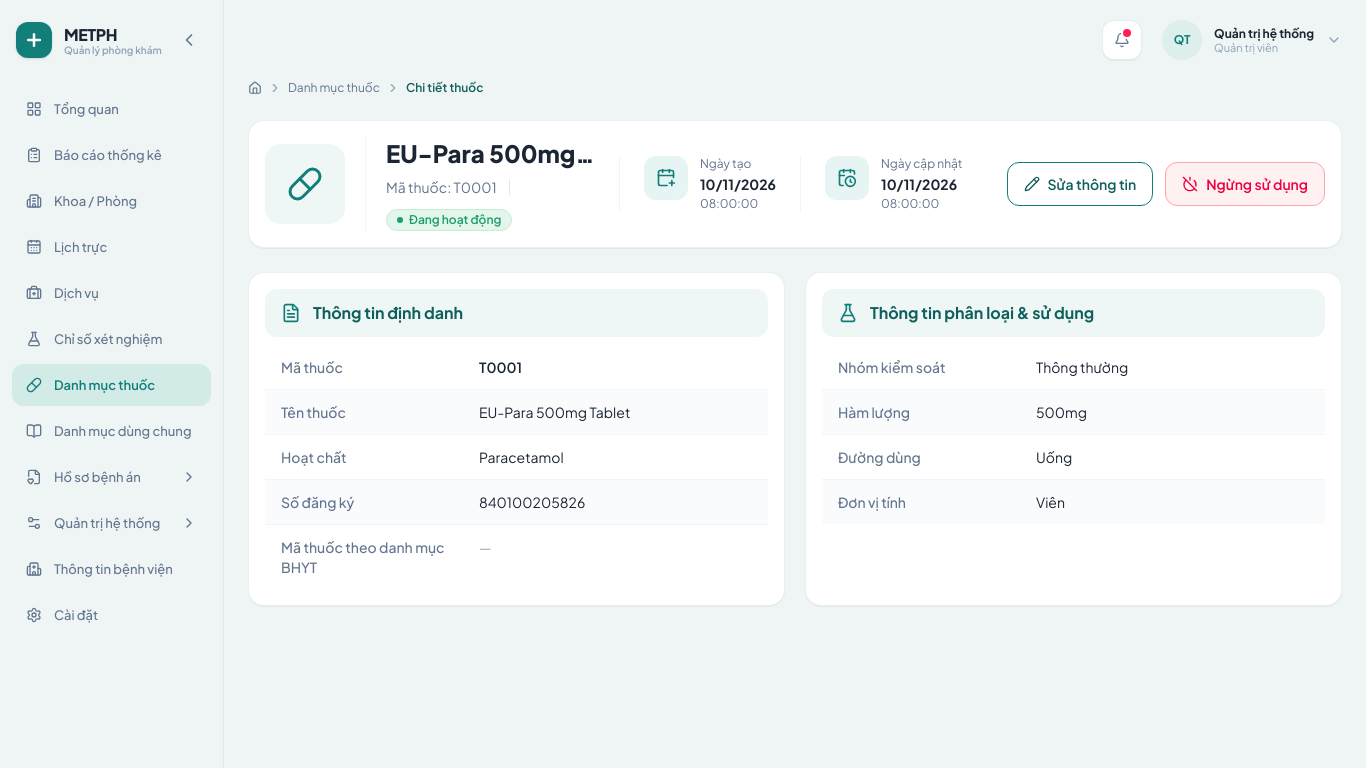
Test: MedicineManagementPage (UC-81 to UC-84) › shows MSG80 and keeps the form when updating a medicine never answers
Click the button "Sửa thông tin" at coordinates (1080, 184), box [1006,162,1153,206]
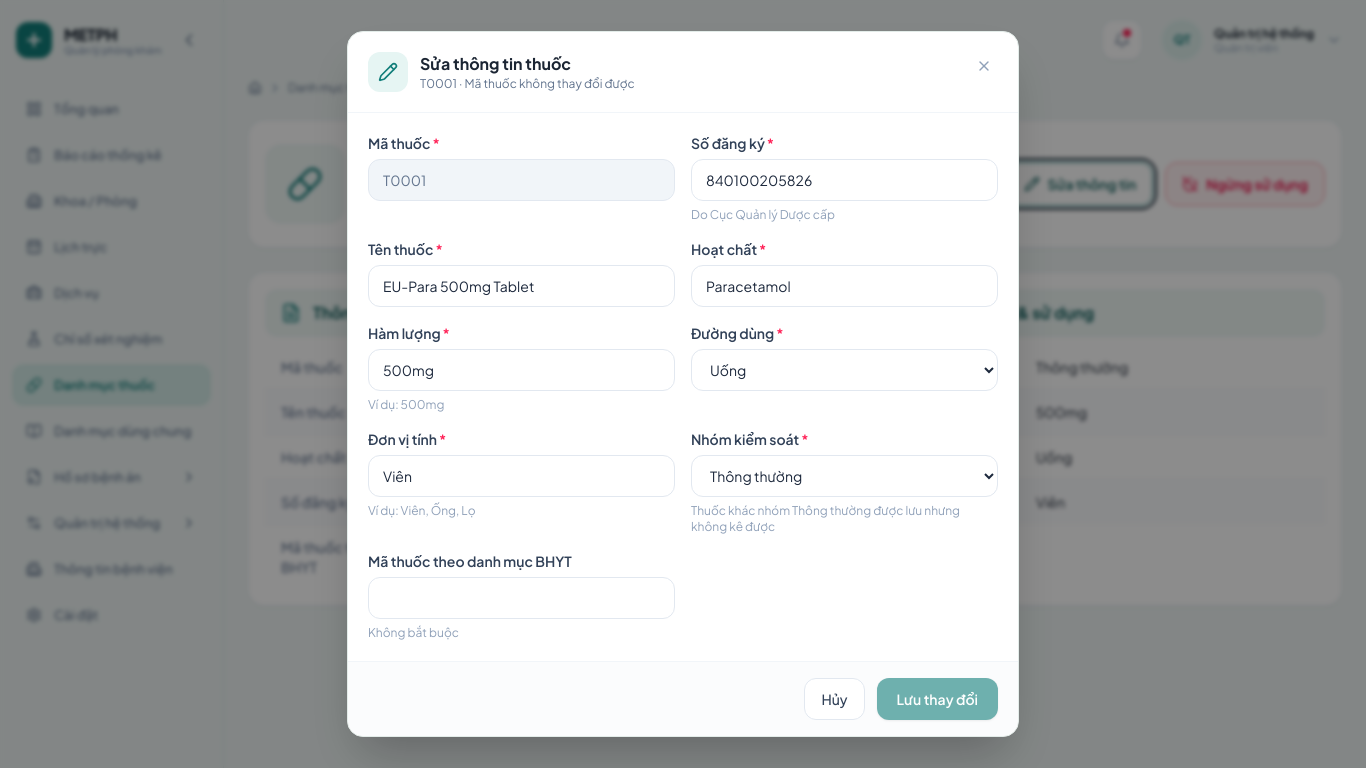
Replace the text in the field labelled "Hàm lượng*" with "650mg" at coordinates (522, 370), box [368,349,675,391]
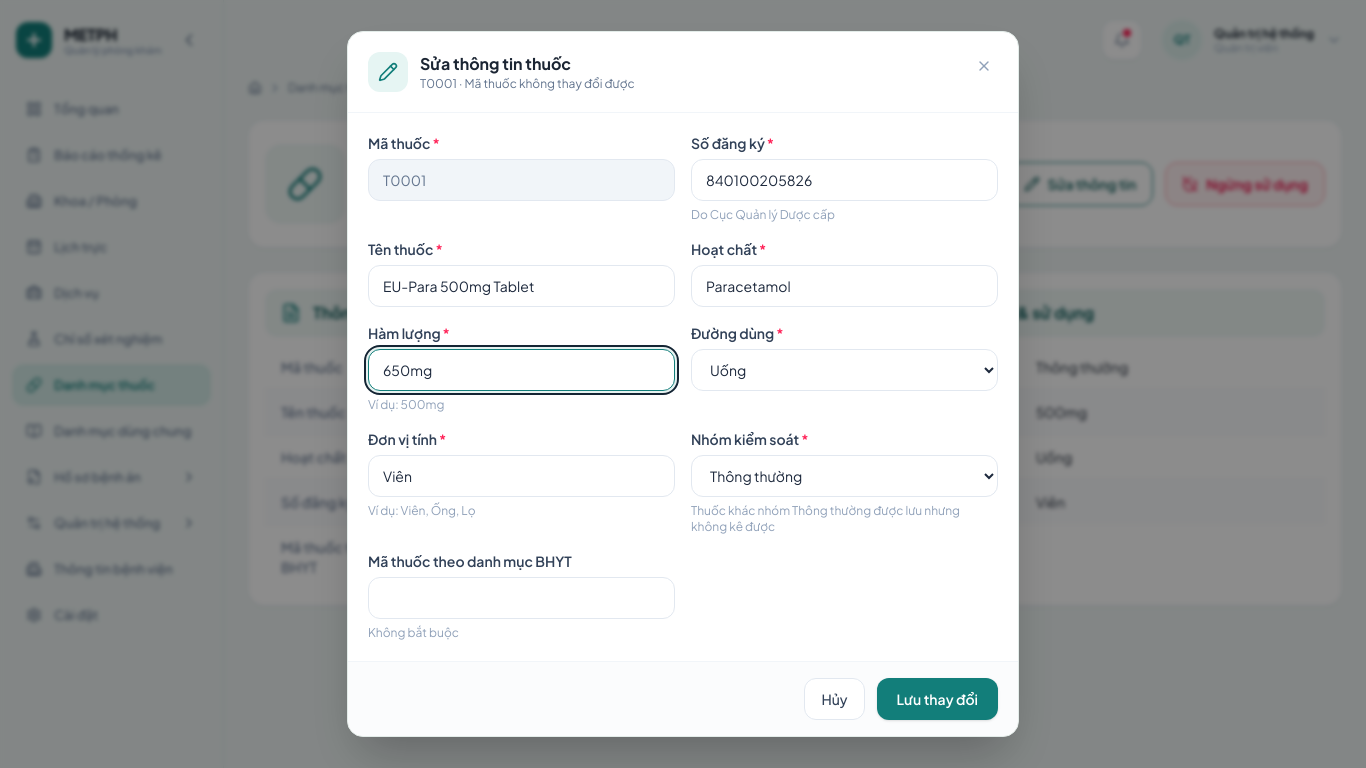
Click the button "Lưu thay đổi" at coordinates (937, 699), box [876,678,998,720]
Wait 3000 ms
(page scrolled)
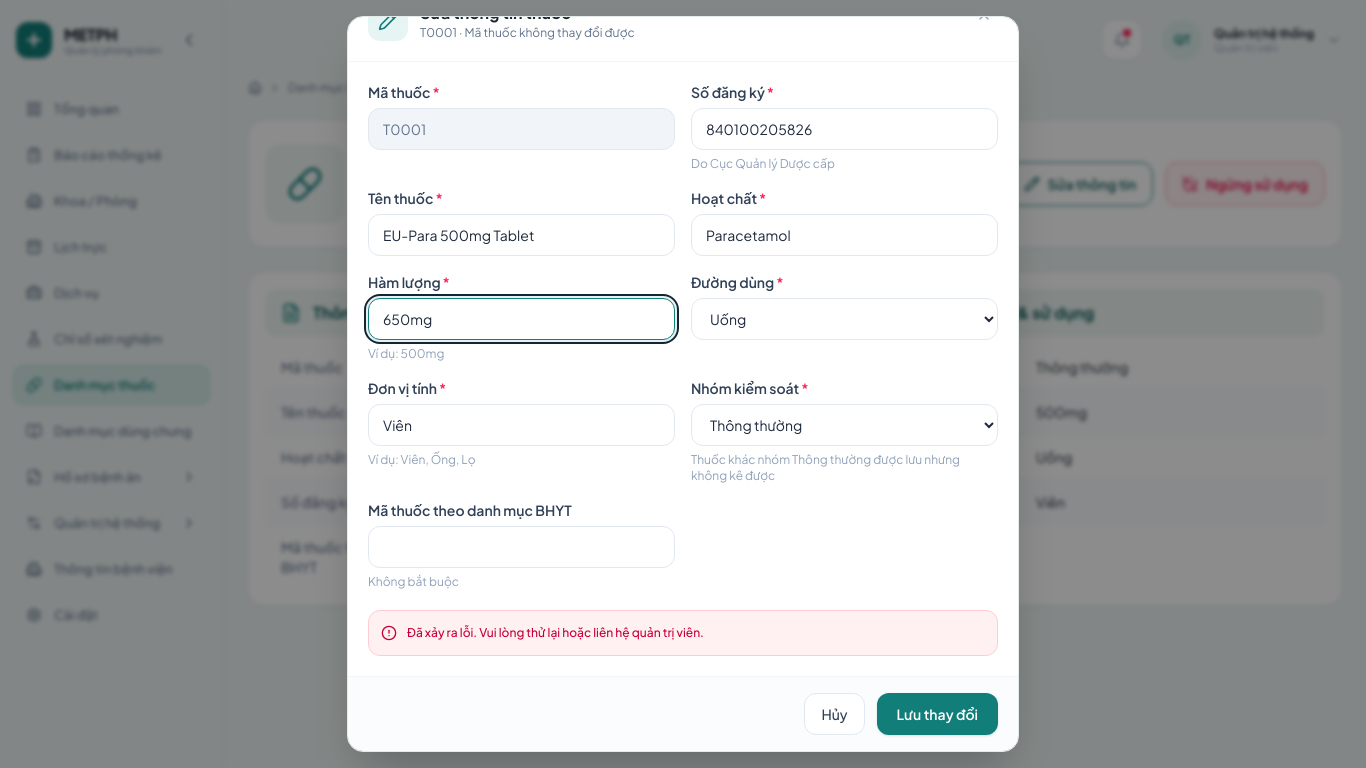
Expected: the text "Đã xảy ra lỗi. Vui lòng thử lại hoặc liên hệ quản trị viên." is shown, [407,623,704,643]
Click the button "Lưu thay đổi" at coordinates (937, 714), box [876,693,998,735]
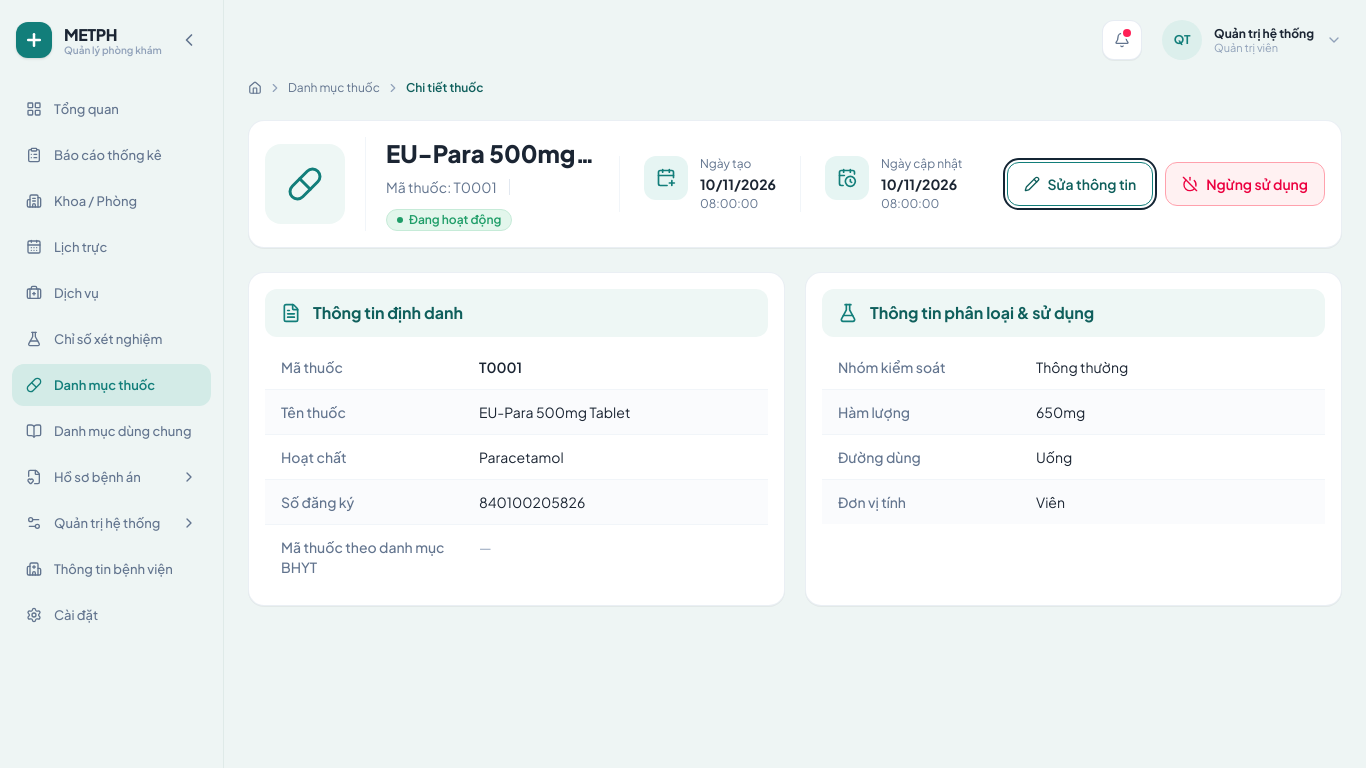
Expected: the dialog is gone
